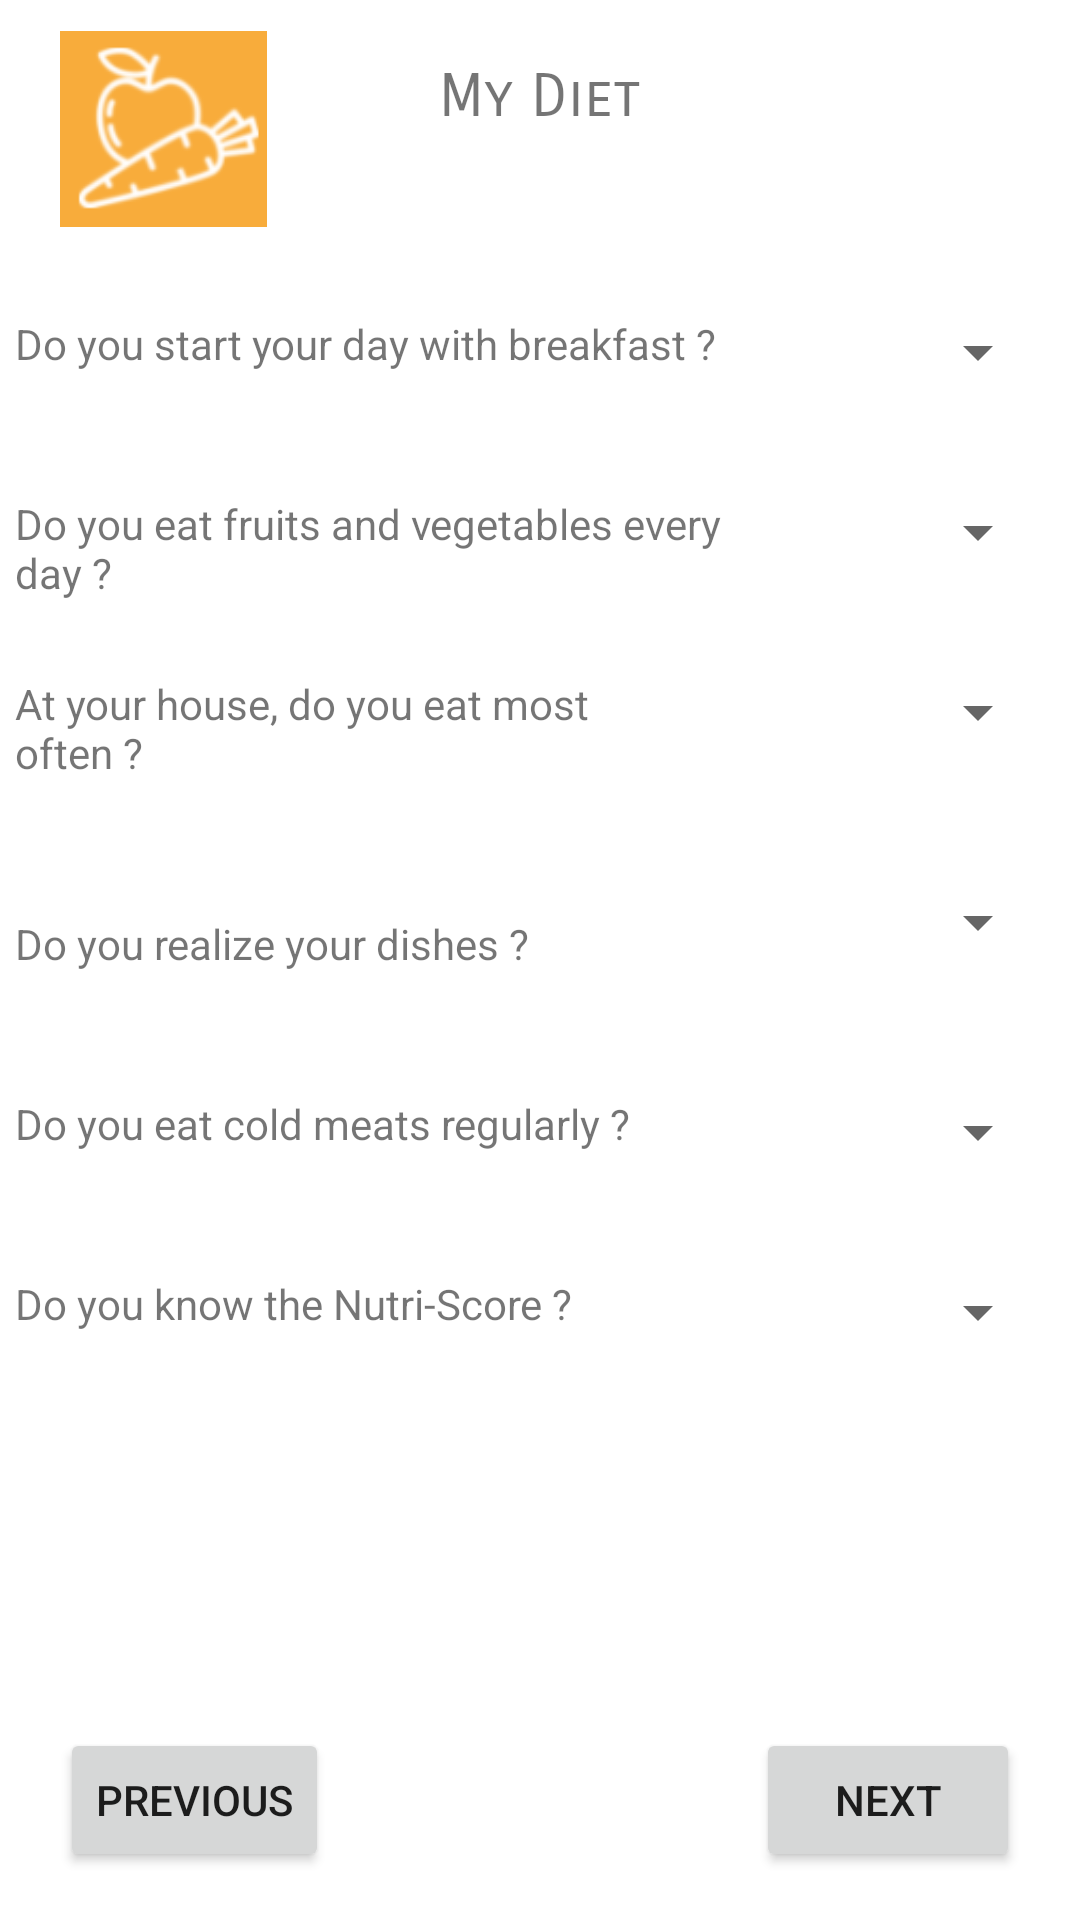

Where to tap for icons on this 1080x1920 app screen, as [x,y]:
monalimentation: [163,129]
